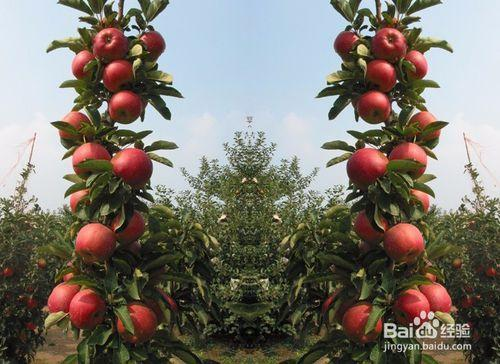apple: (338, 299, 383, 341), (113, 303, 157, 345), (73, 221, 116, 263), (345, 147, 388, 189), (381, 222, 424, 263), (390, 142, 429, 183), (111, 149, 153, 187), (393, 287, 430, 330), (67, 289, 105, 330), (73, 141, 110, 181), (353, 90, 391, 124), (107, 89, 142, 123), (91, 27, 127, 59), (371, 27, 406, 59), (109, 209, 144, 241), (417, 282, 451, 312), (47, 282, 79, 313), (365, 58, 395, 91), (103, 61, 134, 91), (404, 50, 427, 79)
